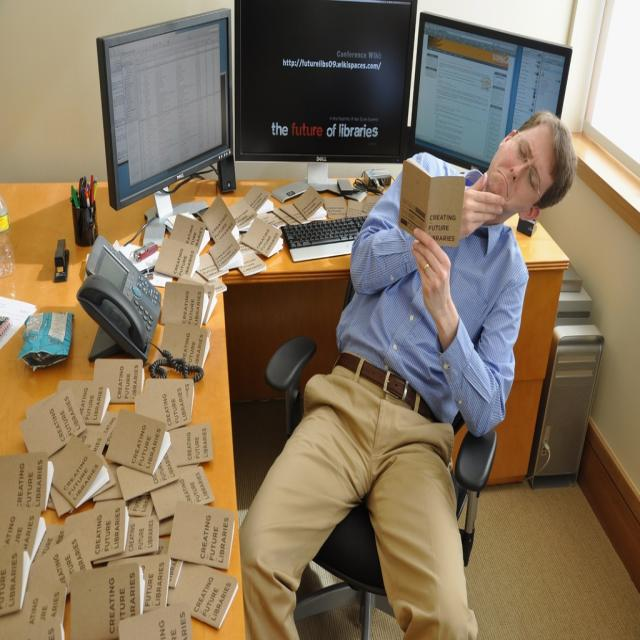chair: (300, 414, 500, 634)
desk: (3, 180, 569, 635)
keyboard: (281, 214, 366, 262)
person: (244, 115, 576, 629)
tv: (233, 1, 415, 172), (406, 8, 576, 175), (95, 7, 232, 212)
